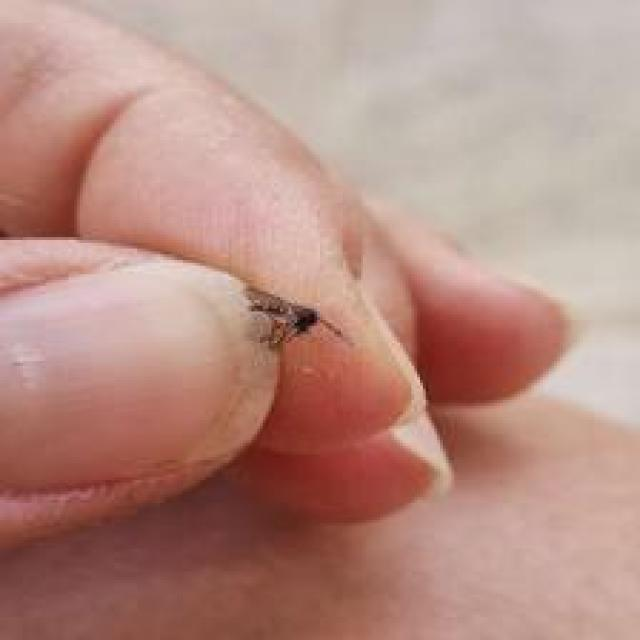Aedes albopictus: (241, 284, 353, 353)
